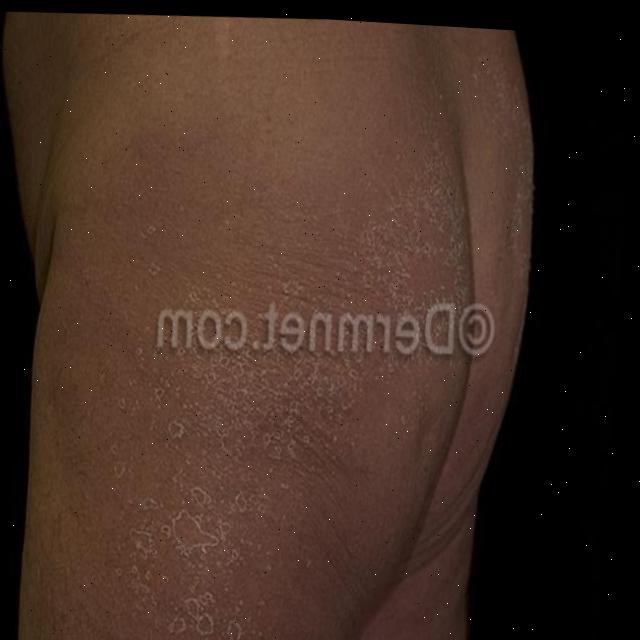Eczema: (82, 79, 547, 640)
